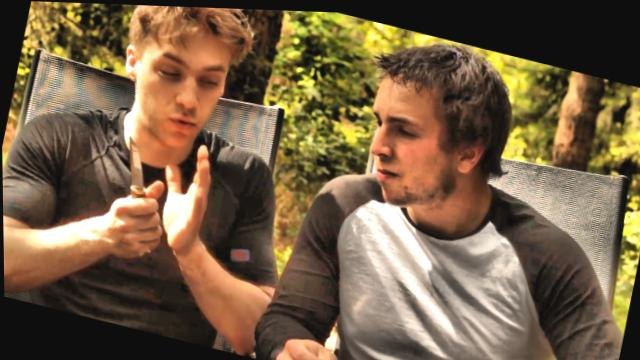knife: (94, 122, 184, 246)
